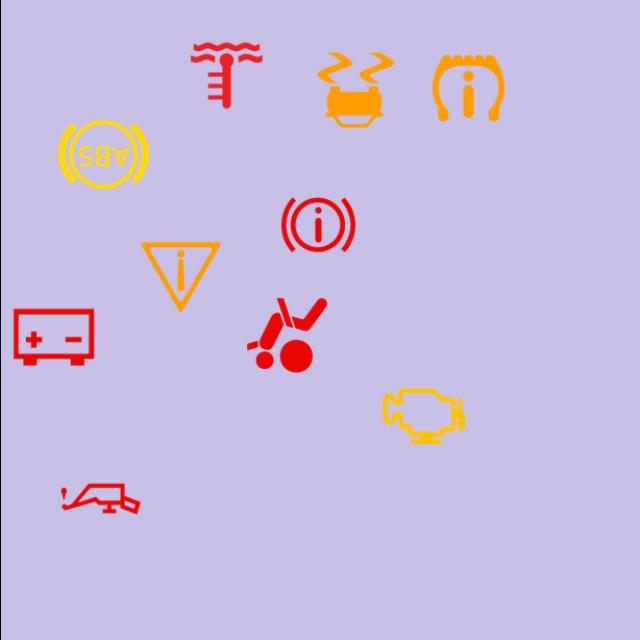Anti Lock Braking System: (53, 106, 152, 204)
Braking System Issue: (268, 175, 367, 274)
Charging System Issue: (3, 288, 102, 387)
Check Engine: (373, 367, 472, 466)
Electronic Stability Problem -ESP-: (306, 40, 404, 140)
Engine Overheating Warning Light: (176, 26, 275, 125)
Low Engine Oil Warning Light: (50, 449, 149, 548)
Low Tire Pressure Warning Light: (418, 39, 517, 138)
Master warning light: (130, 227, 230, 326)
SRS-Airbag: (237, 286, 336, 384)
